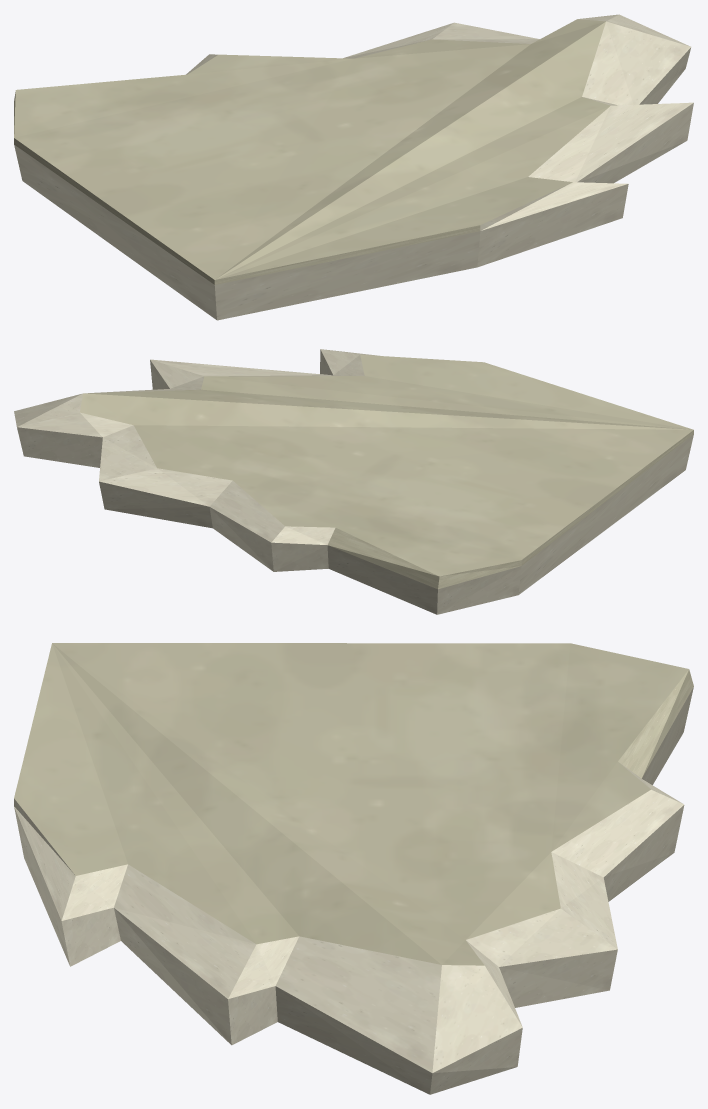
Rendered from debris_drywall_torn.glb.
The picture shows the model from 3 angles, top to bottom: view 1: azimuth 30°, elevation 25°; view 2: azimuth 150°, elevation 25°; view 3: azimuth 270°, elevation 25°; orthographic projection. The views are drawn at different scales.
Visible parts, largest first — view 1: Torn Drywall Chunk; view 2: Torn Drywall Chunk; view 3: Torn Drywall Chunk.
Boxes of the visible parts, bbox=[...] form: Torn Drywall Chunk: bbox=[14, 14, 693, 320]; Torn Drywall Chunk: bbox=[14, 349, 693, 614]; Torn Drywall Chunk: bbox=[14, 643, 693, 1094].
Bounding box in the file's own units: 0.199 × 0.019 × 0.143.
Materials: 1 (1 with a texture image).
